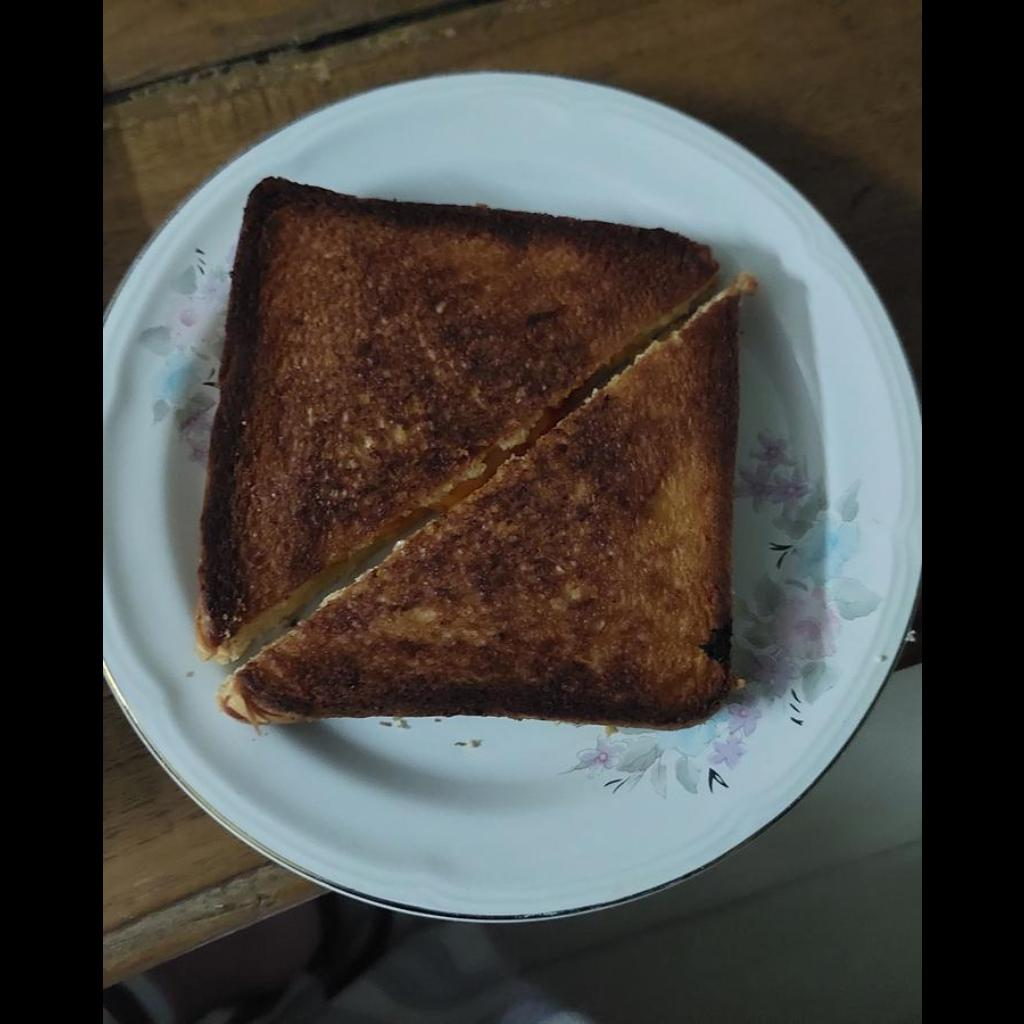bread: (198, 180, 741, 730)
